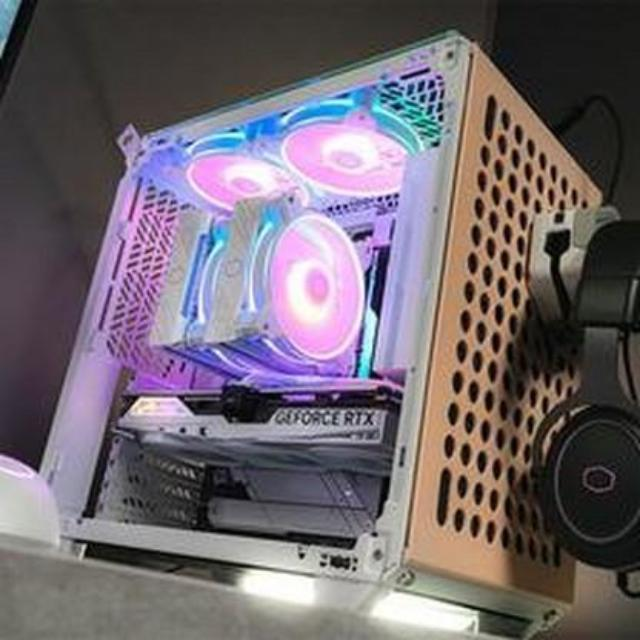CPU_Fan: (152, 198, 366, 380)
GPU: (109, 392, 400, 470)
